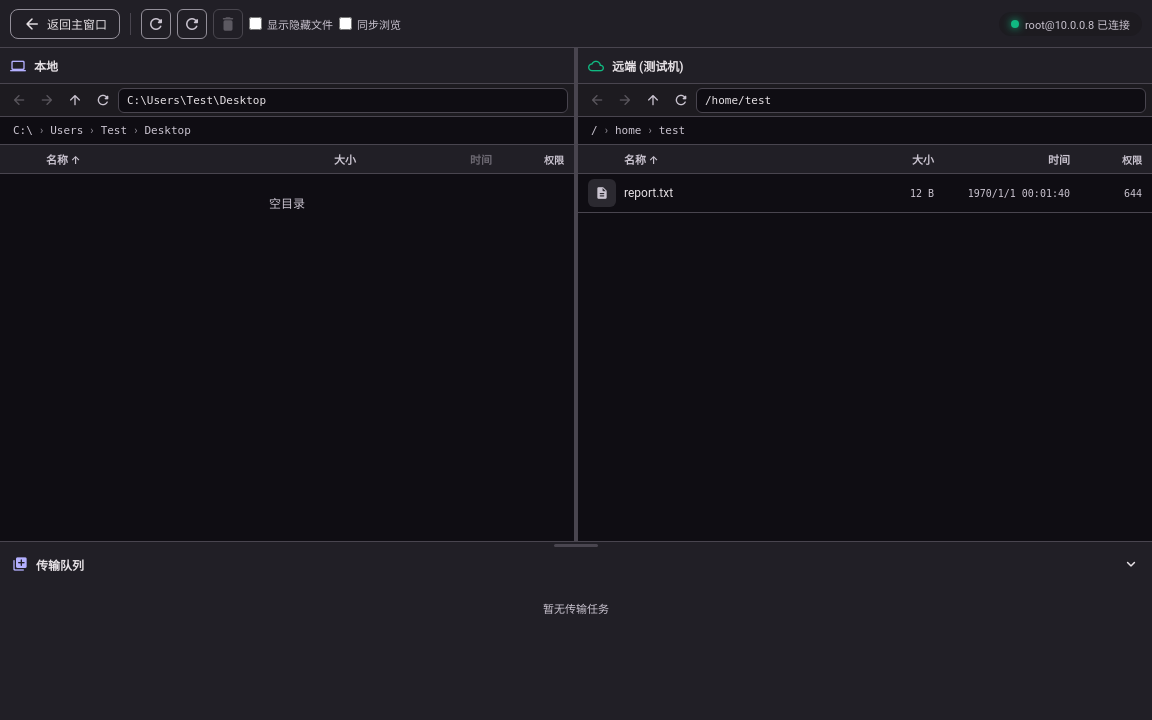
Test: SFTP 删除确认 › 删除失败后保留完整错误并允许重试
Click the text "report.txt".
click(649, 193)  # box [624,186,673,200]
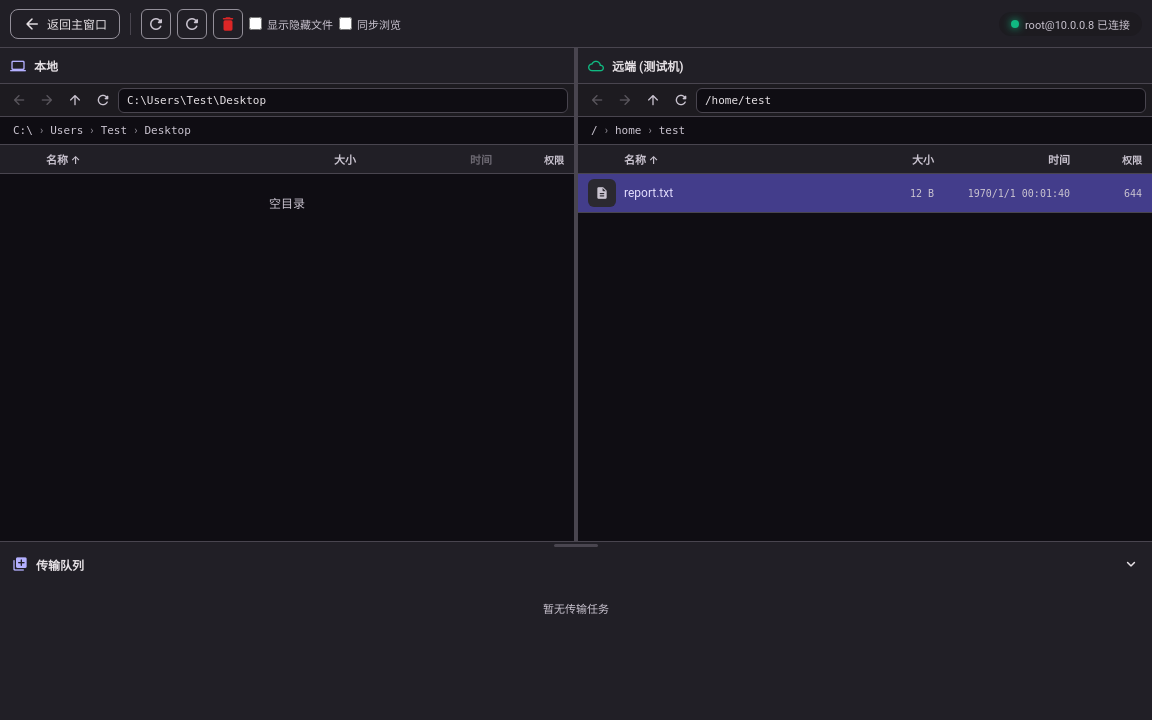
Click the button titled "删除远端: report.txt (Delete)".
click(228, 24)  # box [213,8,243,38]
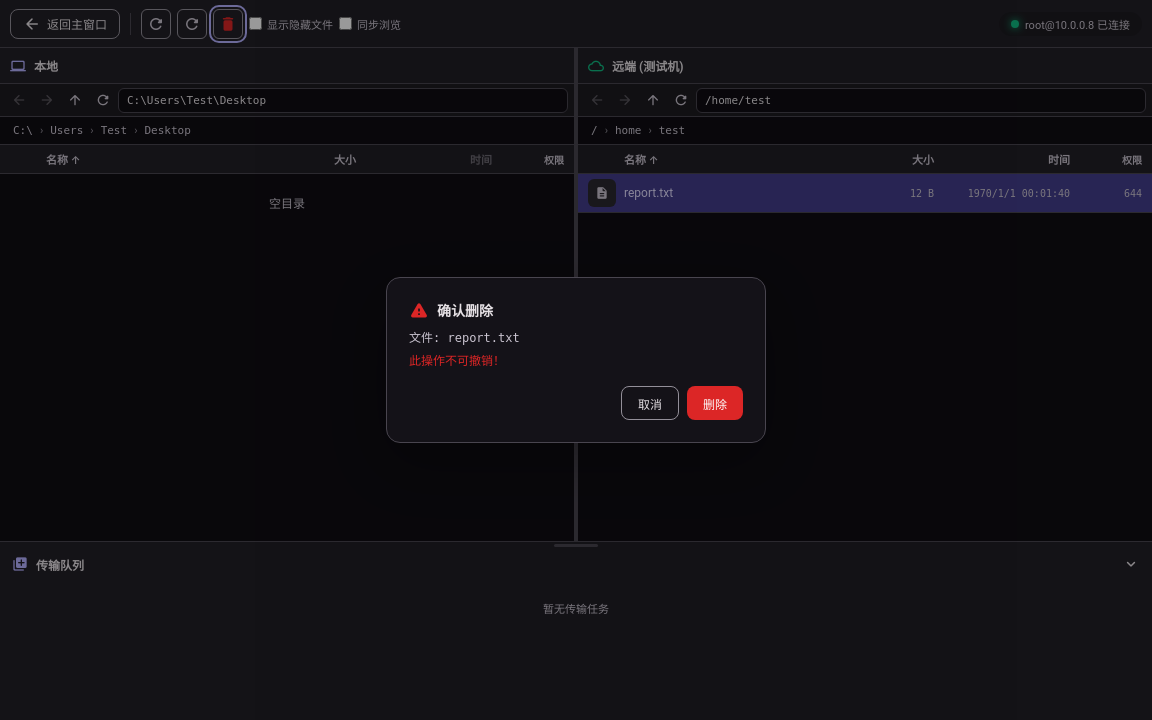
Click the button "删除".
click(715, 403)  # box [687,386,743,420]
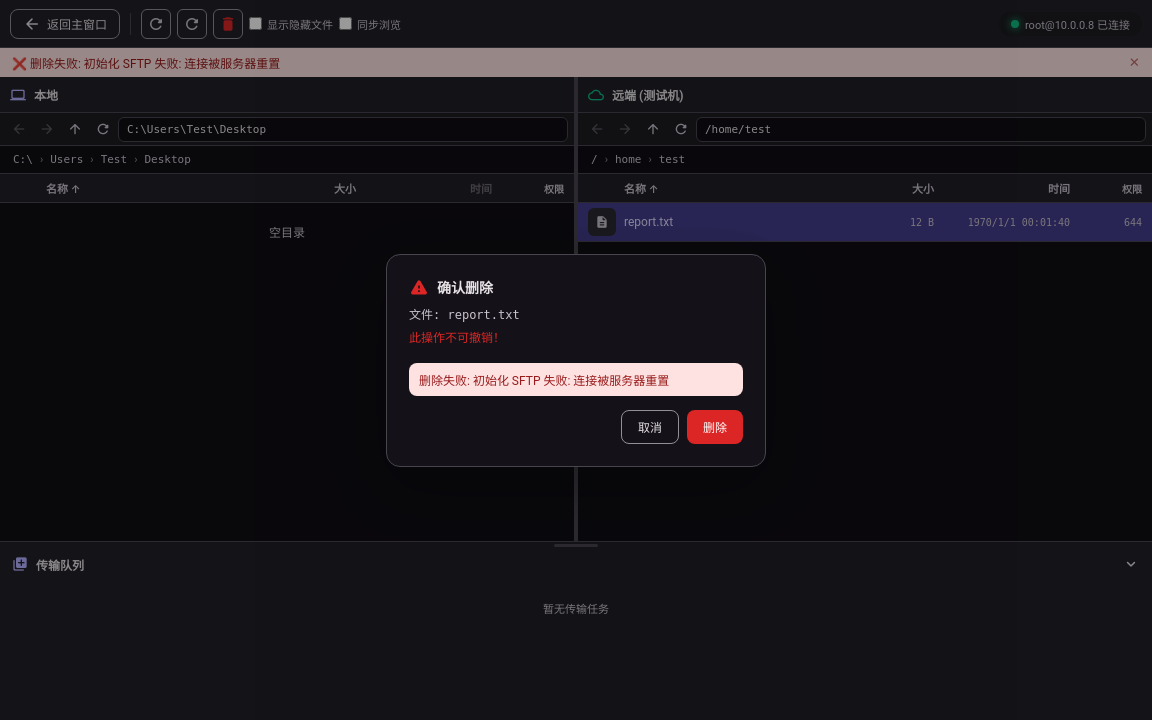
Expected: the dialog "确认删除" is shown, [386,254,766,466]
Expected: the button "删除" is enabled, [687,410,743,444]
Expected: the message reads "删除失败: 初始化 SFTP 失败: 连接被服务器重置", [419,374,669,388]
